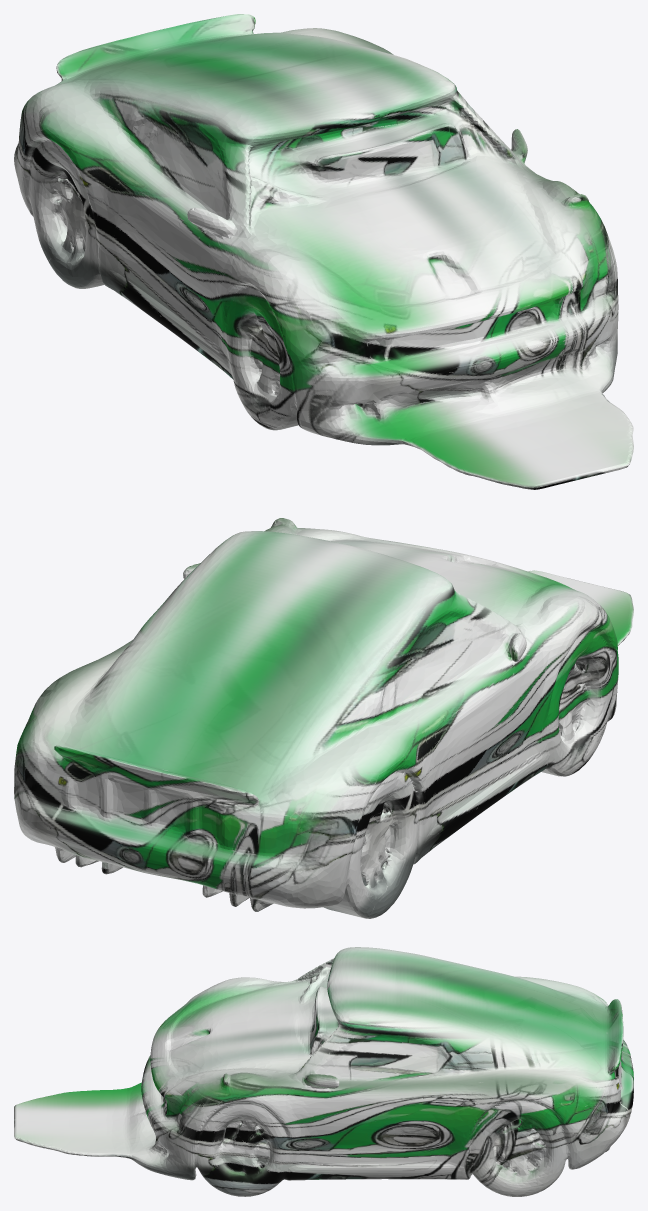
Rendered from hedge.glb.
3 views of the same model, one above another, from view 1: azimuth 30°, elevation 25°; view 2: azimuth 150°, elevation 25°; view 3: azimuth 270°, elevation 25° (orthographic). The views are drawn at different scales.
Parts seen in each view (by area): view 1: hedge; view 2: hedge; view 3: hedge.
Part boxes in pixels (<box>): hedge: <box>14,14,633,489</box>; hedge: <box>14,518,633,918</box>; hedge: <box>14,947,633,1196</box>.
Bounding box in the file's own units: 0.6233 × 0.4089 × 1.4.
Materials: 1 (1 with a texture image).
